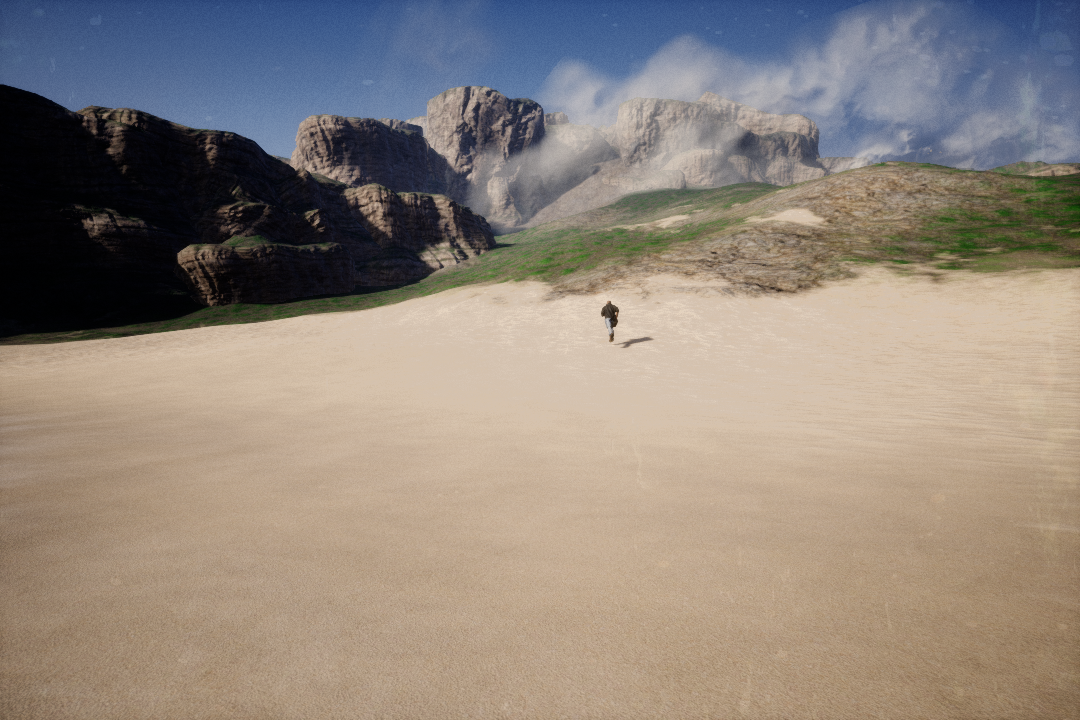person: (597, 299, 625, 346)
